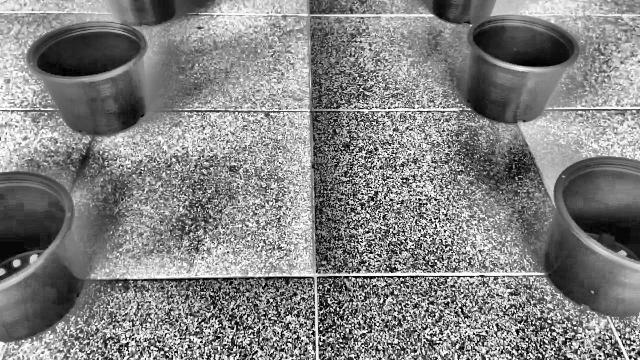pot: (544, 157, 640, 318), (0, 172, 87, 344), (26, 22, 150, 138), (464, 14, 581, 124)
